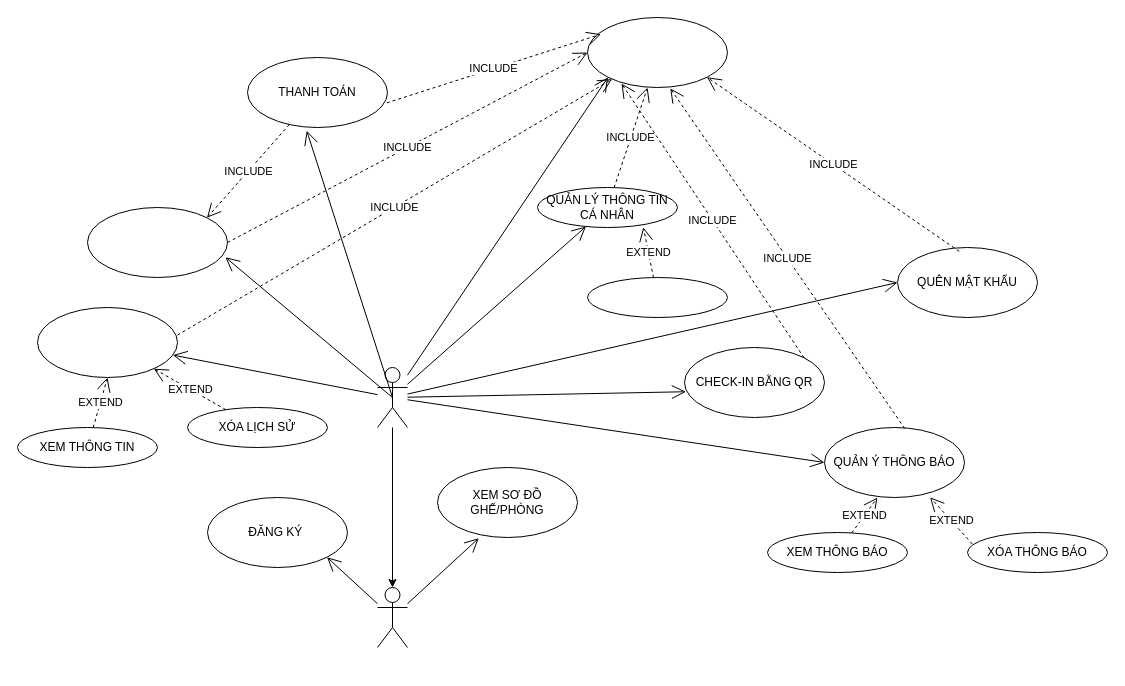
The diagram is 1125 pixels wide and 686 high, and some of its shapes have lost their labels. Each missing label, with the centre of its shape:
CHỈNH SỬA THÔNG TIN: the point at 657,297
KHÁCH: the point at 392,617
QUẢN LÝ LỊCH SỬ ĐẶT: the point at 107,342
THÀNH VIÊN: the point at 392,397
ĐĂNG NHẬP: the point at 657,52
ĐẶT CHỔ THEO BLOCK GIỜ: the point at 157,242
